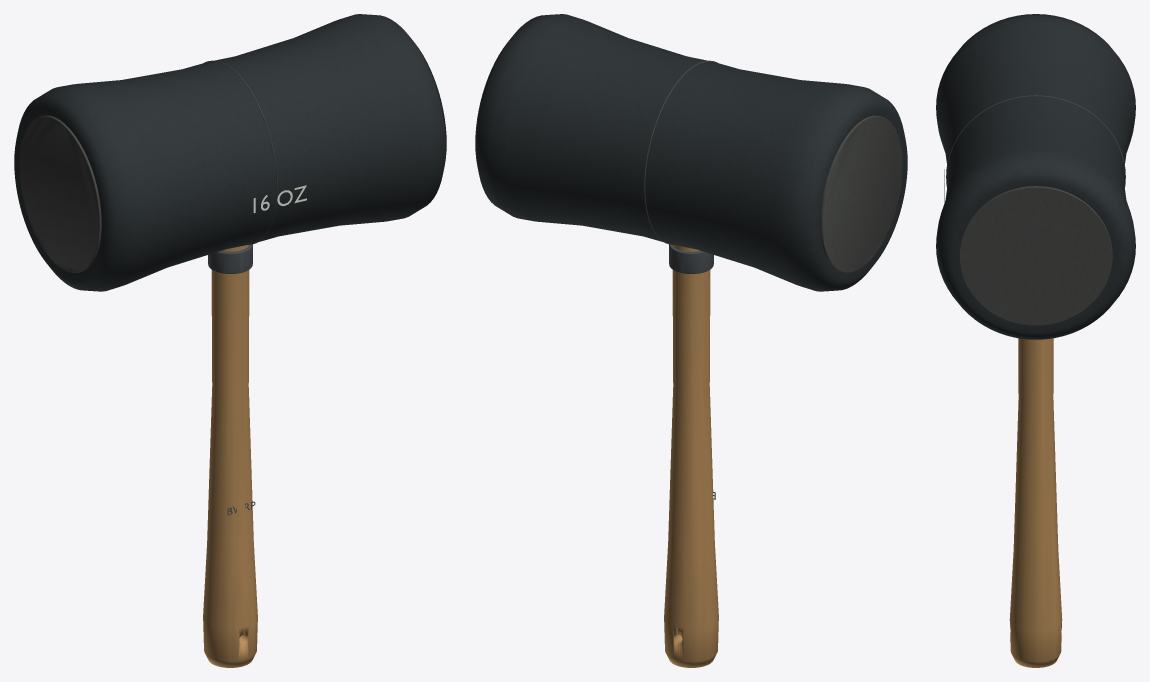
File: mallet.glb
3 views of the same model, side by side, from view 1: azimuth 30°, elevation 25°; view 2: azimuth 150°, elevation 25°; view 3: azimuth 270°, elevation 25° (orthographic). The views are drawn at different scales.
Visible parts, largest first — view 1: mallet; view 2: mallet; view 3: mallet.
Part boxes in pixels (left/top/right/bottom): mallet: left=14, top=14, right=446, bottom=667; mallet: left=475, top=14, right=907, bottom=667; mallet: left=936, top=14, right=1135, bottom=667.
Bounding box in the file's own units: 0.39 × 0.651 × 0.206.
5 materials, 5 textured.
